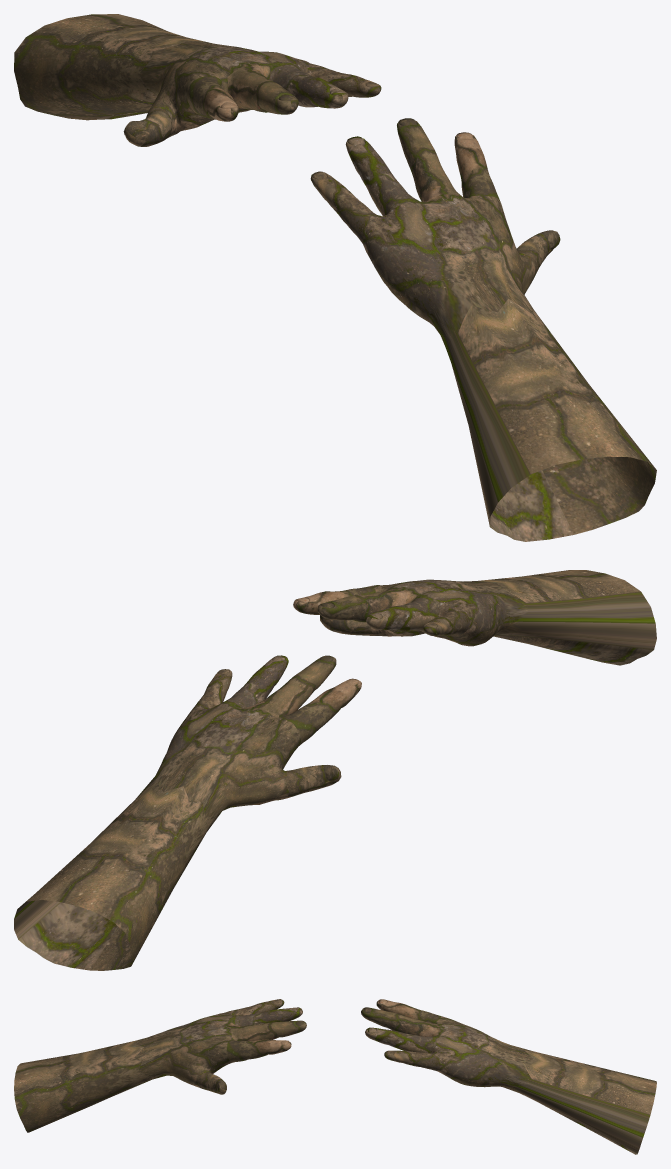
Rendered from hands_000010.obj.
3 views of the same model, one above another, from view 1: azimuth 30°, elevation 25°; view 2: azimuth 150°, elevation 25°; view 3: azimuth 270°, elevation 25° (orthographic). The views are drawn at different scales.
Visible parts, largest first — view 1: hand.001_Mesh.001, hand_Mesh; view 2: hand_Mesh, hand.001_Mesh.001; view 3: hand_Mesh, hand.001_Mesh.001.
Boxes of the visible parts, x1,y1,x2,y2 form: hand.001_Mesh.001: (310, 118, 656, 541); hand_Mesh: (14, 14, 381, 146); hand_Mesh: (14, 655, 361, 970); hand.001_Mesh.001: (293, 570, 656, 665); hand_Mesh: (361, 999, 656, 1154); hand.001_Mesh.001: (14, 999, 306, 1132).
Bounding box in the file's own units: 1.58 × 1.41 × 6.63.
Materials: 1 (1 with a texture image).
